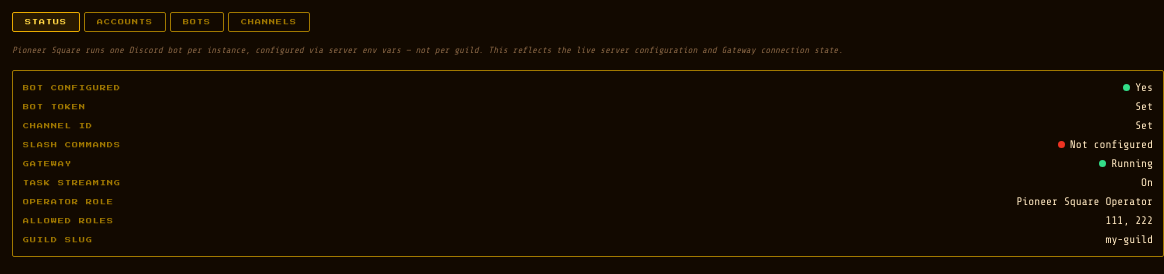
GuildDiscordSettings › lets an owner unlink a Discord account
What coordinates should you click on to do the following:
click the button with class "foreman-tool-tab" showing "Accounts"
I would click on:
 (125, 22)
Its box is [84, 12, 166, 32].
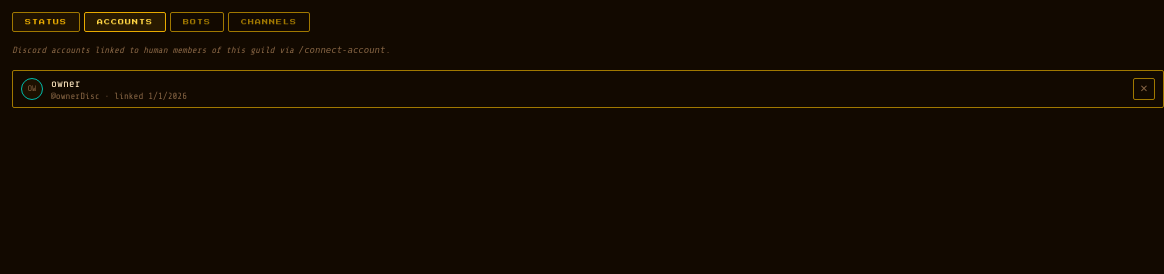
What coordinates should you click on to do the following:
click the button with class "discord-remove-btn"
I would click on:
 (1144, 89)
Its box is [1133, 78, 1155, 100].
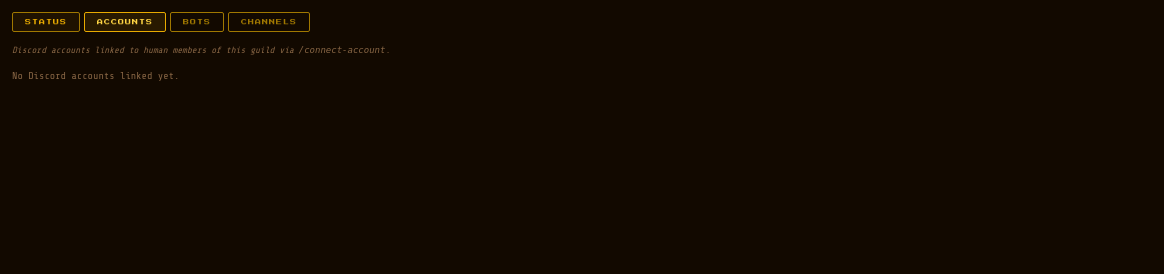
expect the text "No Discord accounts linked yet." is shown: met, box [12, 70, 179, 81]
